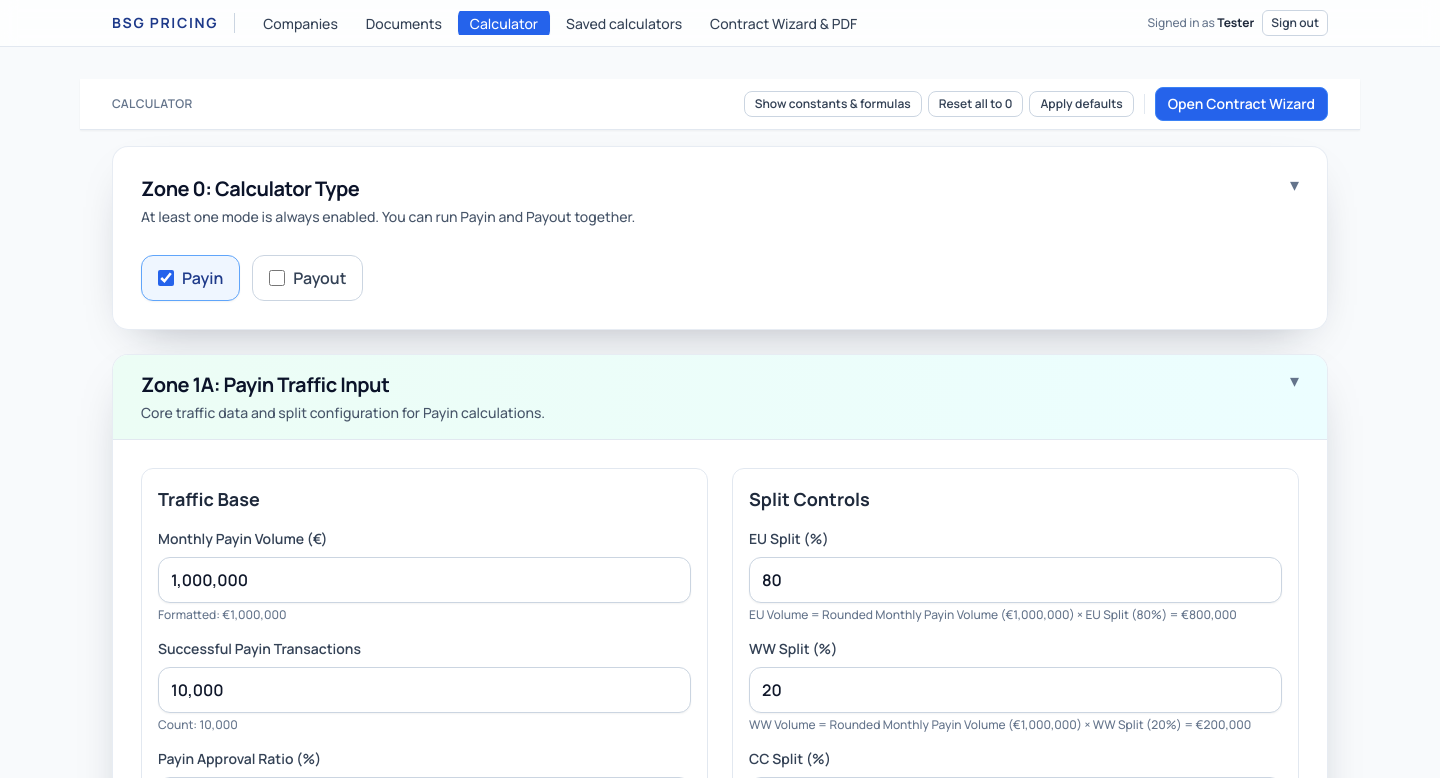
Test: App core flow › shows auto average transaction fields in input blocks as readonly
Click the checkbox labelled "Payout": (277, 278) left=269, top=270, right=285, bottom=286
(page scrolled)
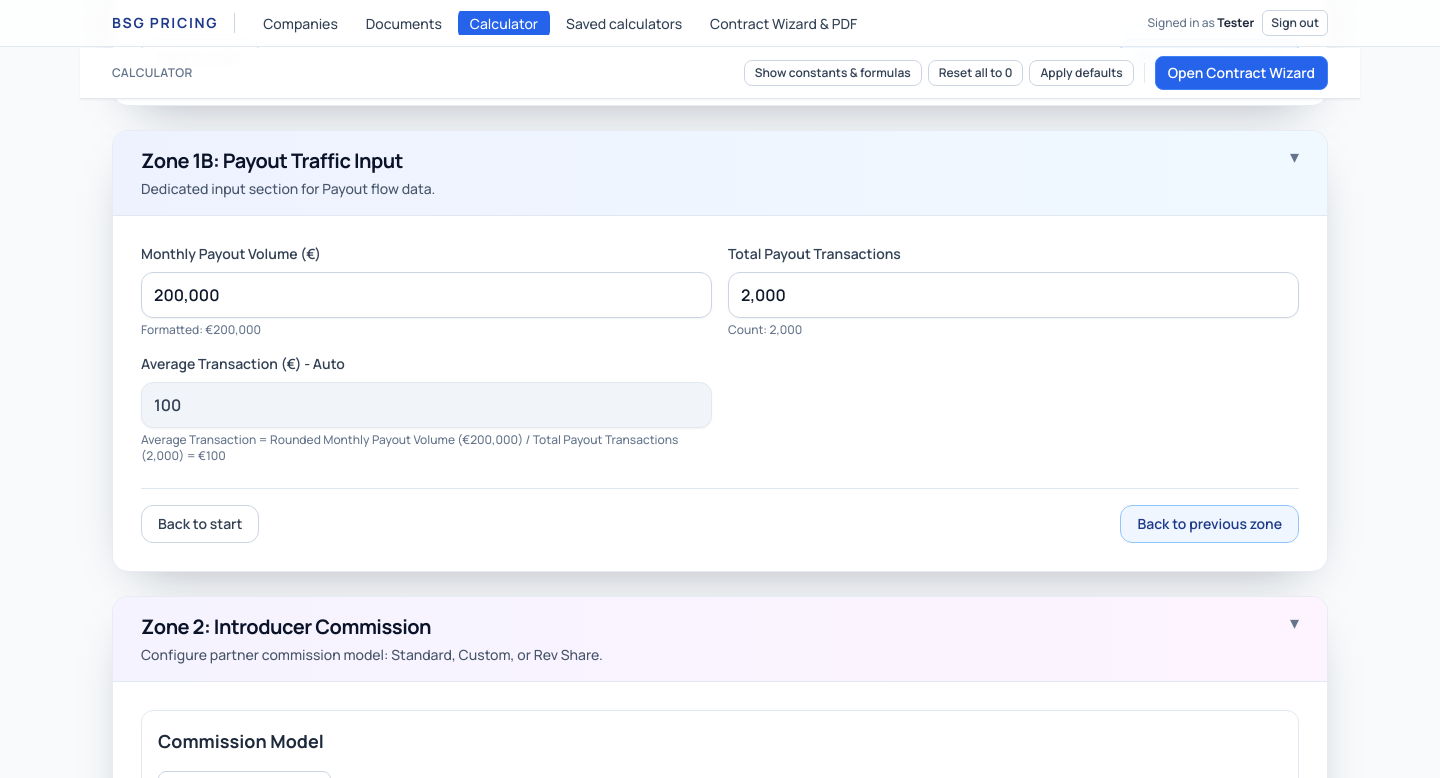
Now the number of fields labelled "Average Transaction (€) - Auto" is 2
